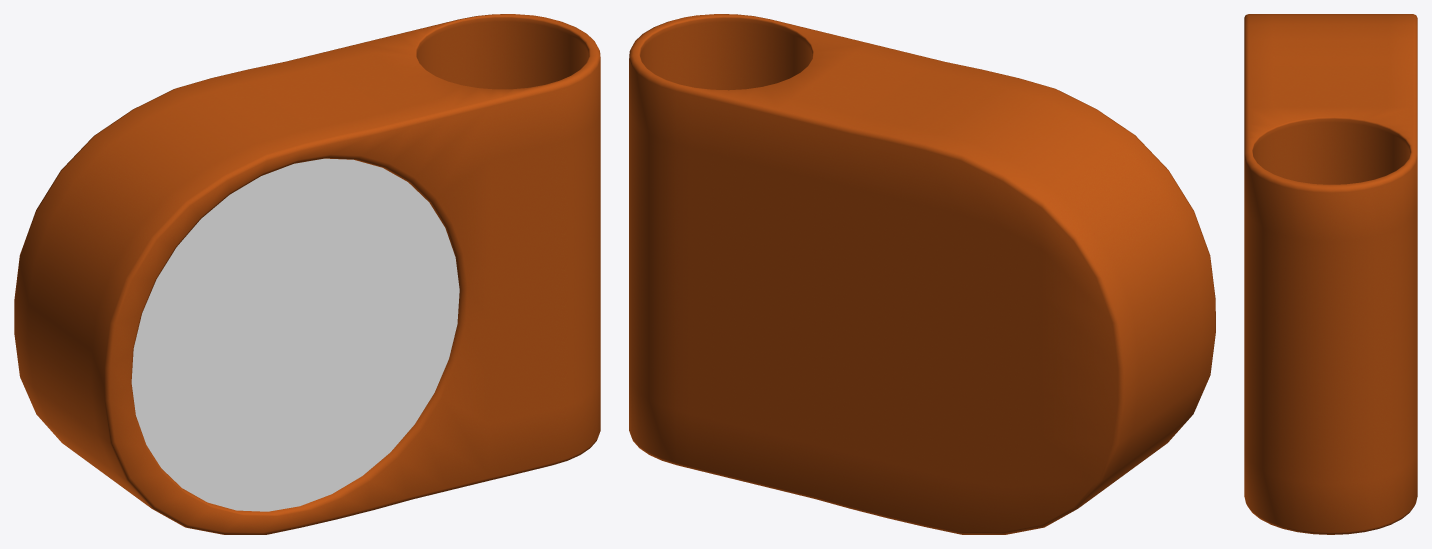
The model's file is clock.glb.
3 renders of one model, left to right at view 1: azimuth 30°, elevation 25°; view 2: azimuth 150°, elevation 25°; view 3: azimuth 270°, elevation 25°, orthographic. The views are drawn at different scales.
Parts seen in each view (by area): view 1: Cylinder, Cylinder.002; view 2: Cylinder; view 3: Cylinder.
Part boxes in pixels (x1,y1,x2,y2): Cylinder: (14,14,600,534); Cylinder.002: (131,158,459,511); Cylinder: (629,14,1215,534); Cylinder: (1244,14,1417,534).
Size of the model in its own units: 0.1009 by 0.07 by 0.0313.
4 materials, 1 textured.
